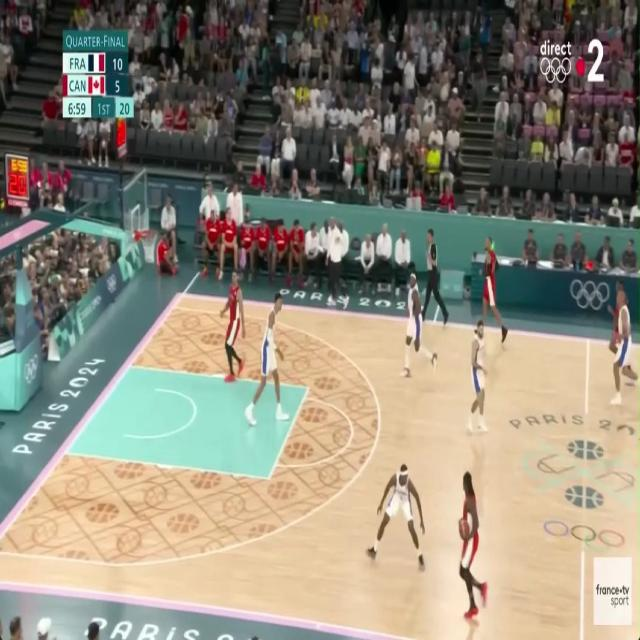ball_handler: (455, 463, 488, 624)
